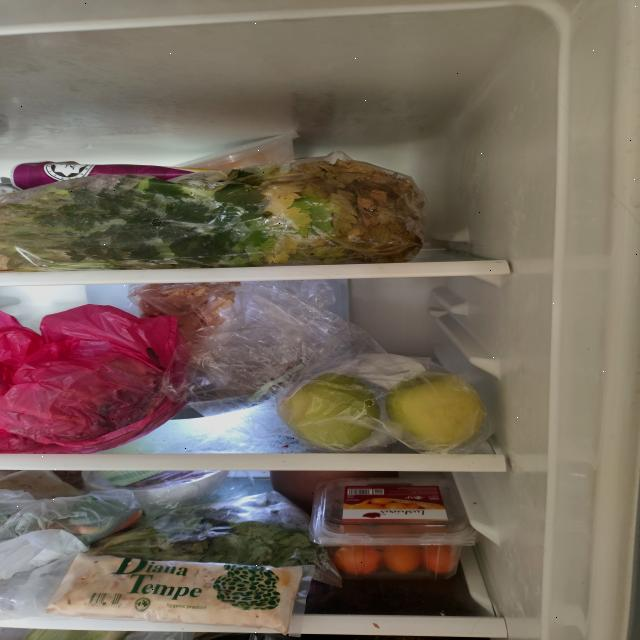apple: (386, 373, 485, 449), (282, 372, 380, 448)
leafy_greens: (0, 160, 426, 274), (95, 494, 328, 567)
tempeh: (46, 552, 304, 634)
unknown_bag: (0, 303, 187, 454)
